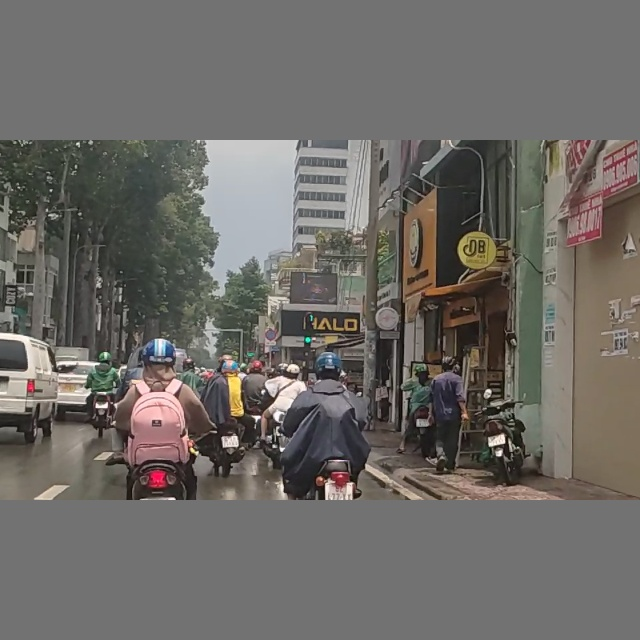P.131a: (265, 327, 278, 341)
